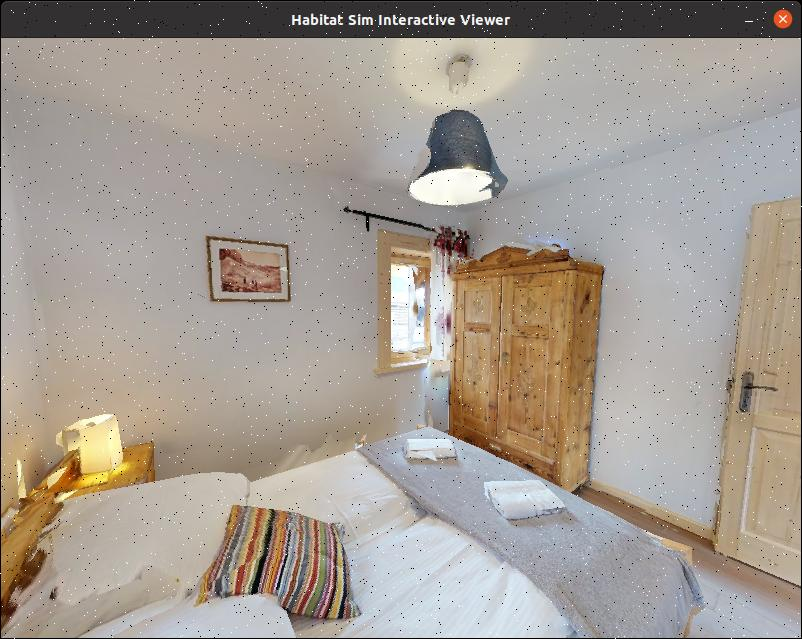bed: (0, 344, 758, 638)
door: (691, 185, 802, 639)
